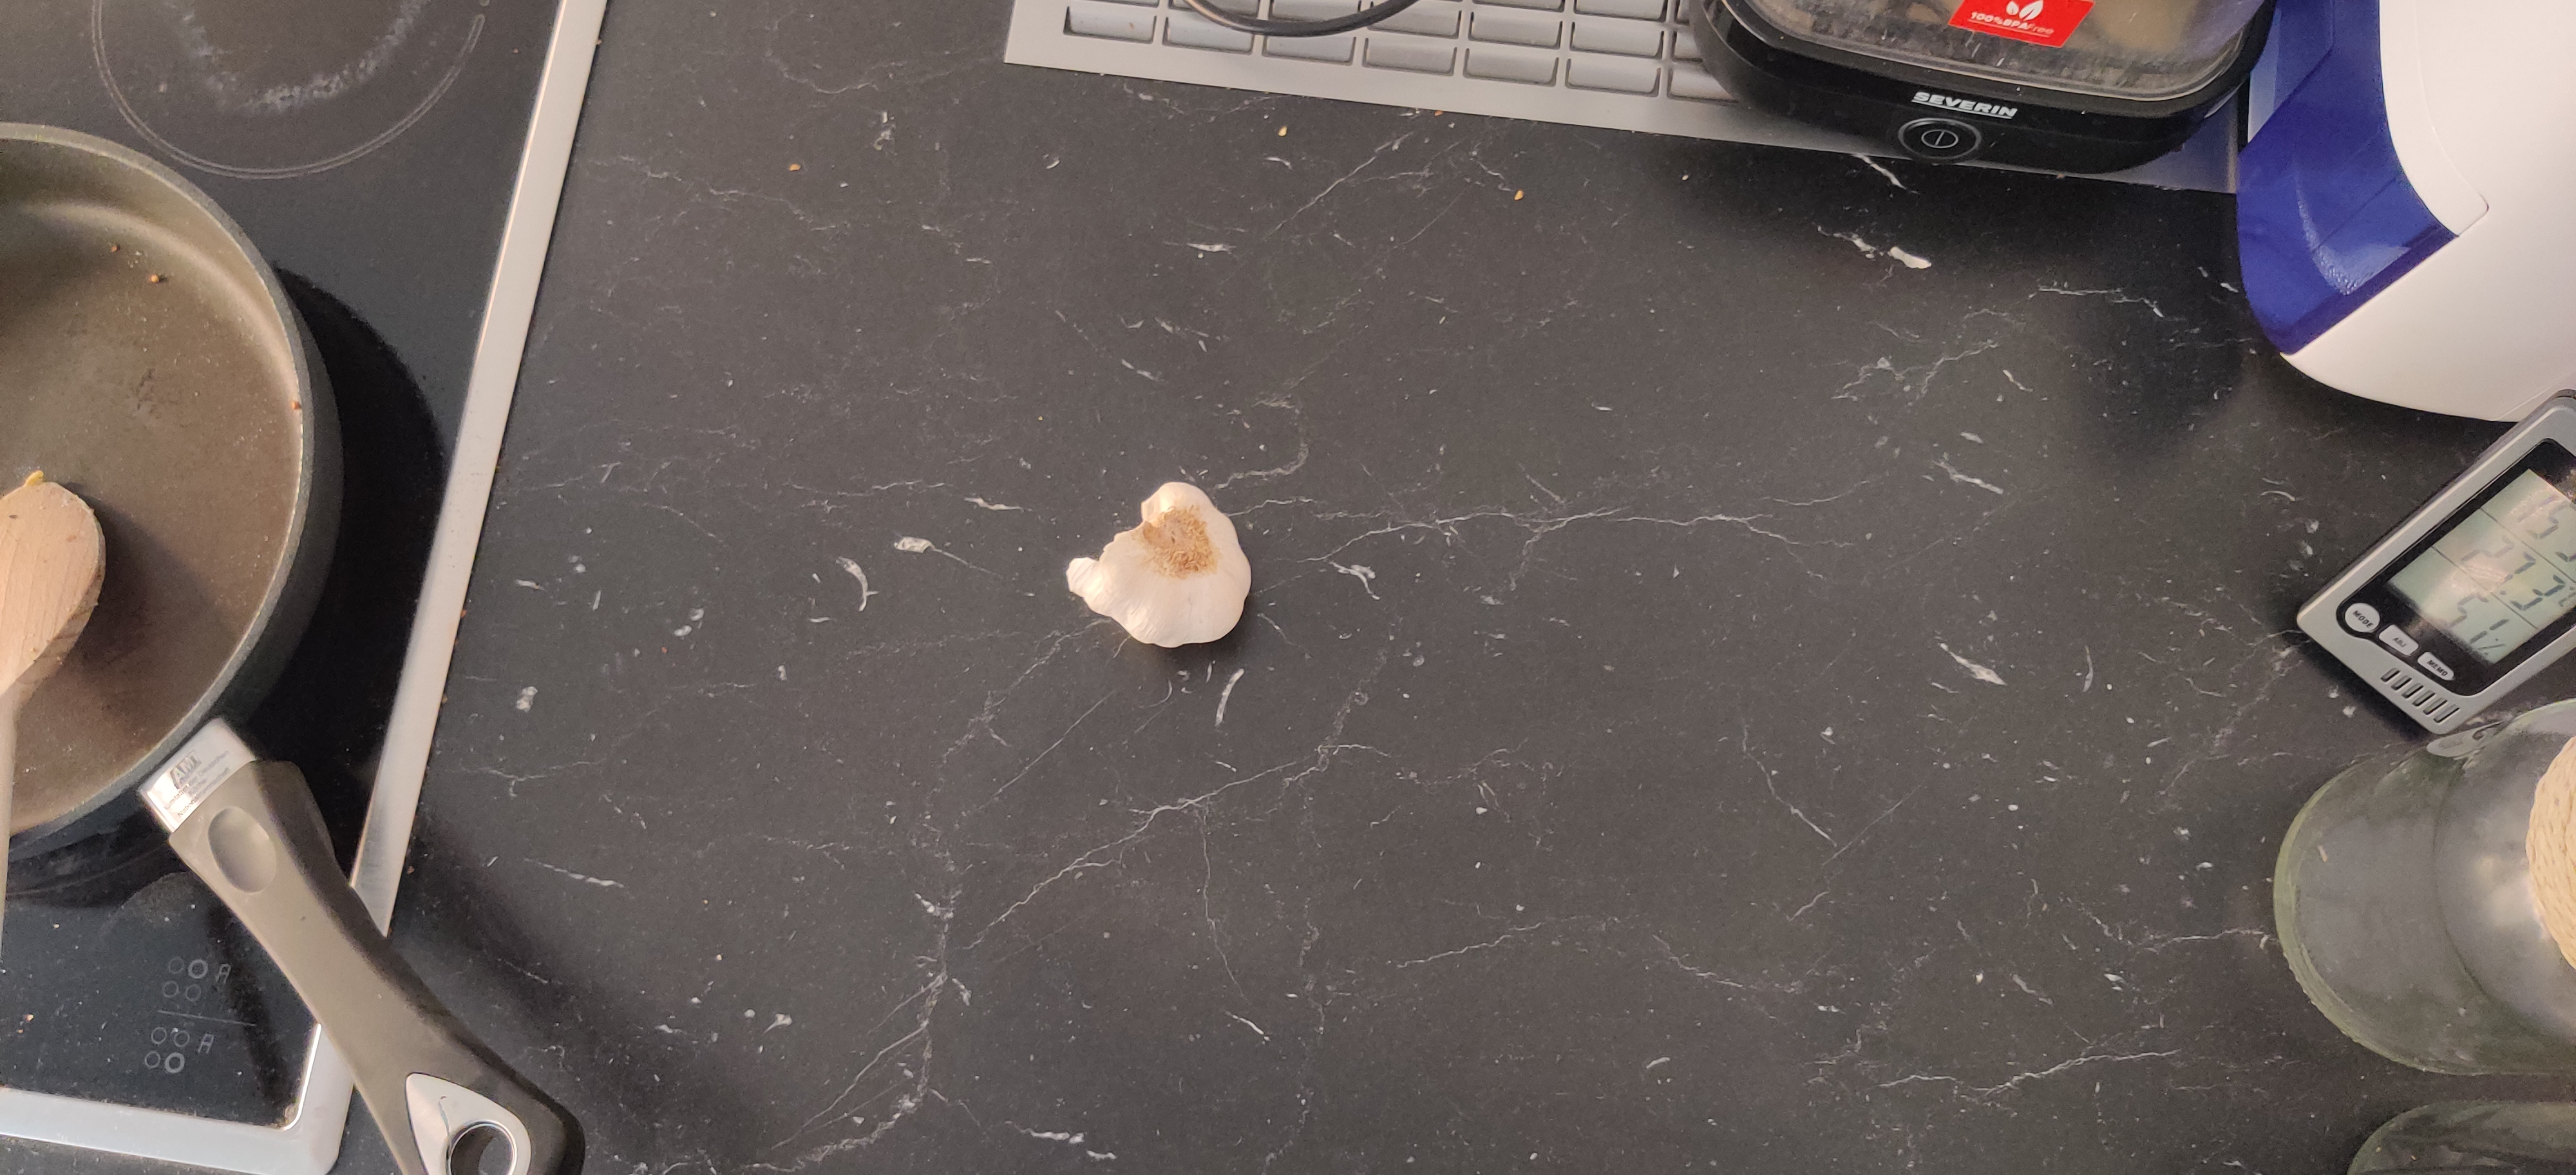Knoblauch: (1068, 480, 1252, 646)
